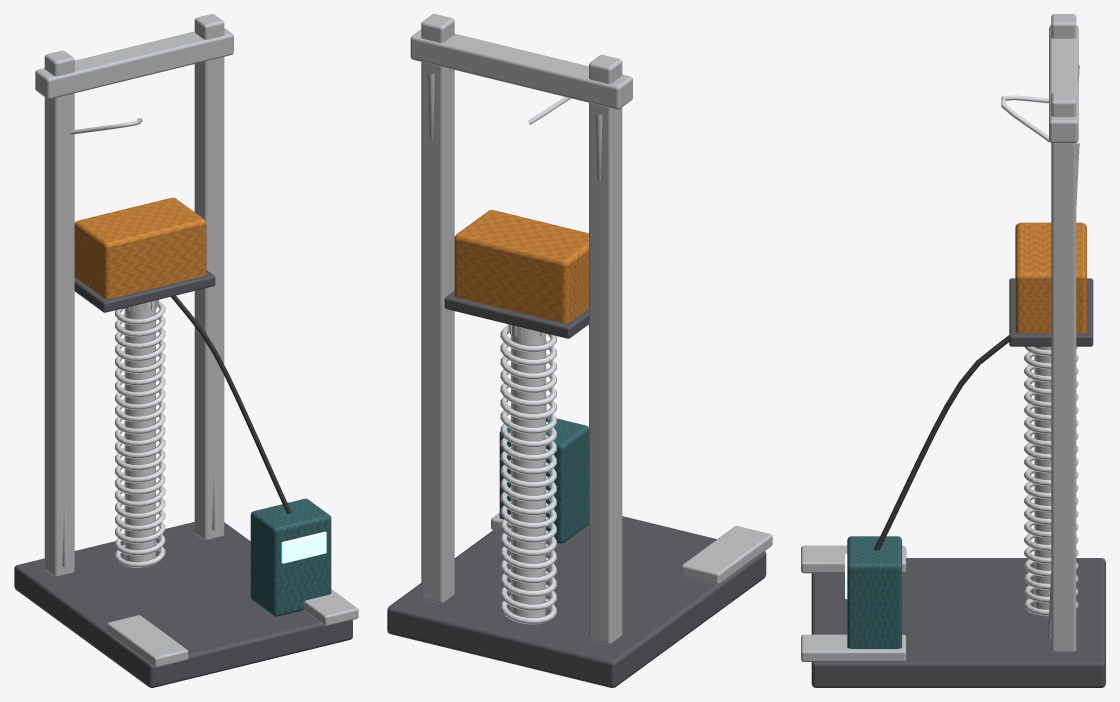
3 renders of one model, left to right at view 1: azimuth 30°, elevation 25°; view 2: azimuth 150°, elevation 25°; view 3: azimuth 270°, elevation 25°, orthographic. The views are drawn at different scales.
Parts seen in each view (by area): view 1: ice-core-drill-rig; view 2: ice-core-drill-rig; view 3: ice-core-drill-rig.
Boxes of the visible parts, <box> form: ice-core-drill-rig: <box>14,14,358,687</box>; ice-core-drill-rig: <box>387,14,772,687</box>; ice-core-drill-rig: <box>801,14,1105,687</box>.
Size of the model in its own units: 1.2 by 3.06 by 1.45.
Materials: 7 (2 with a texture image).
